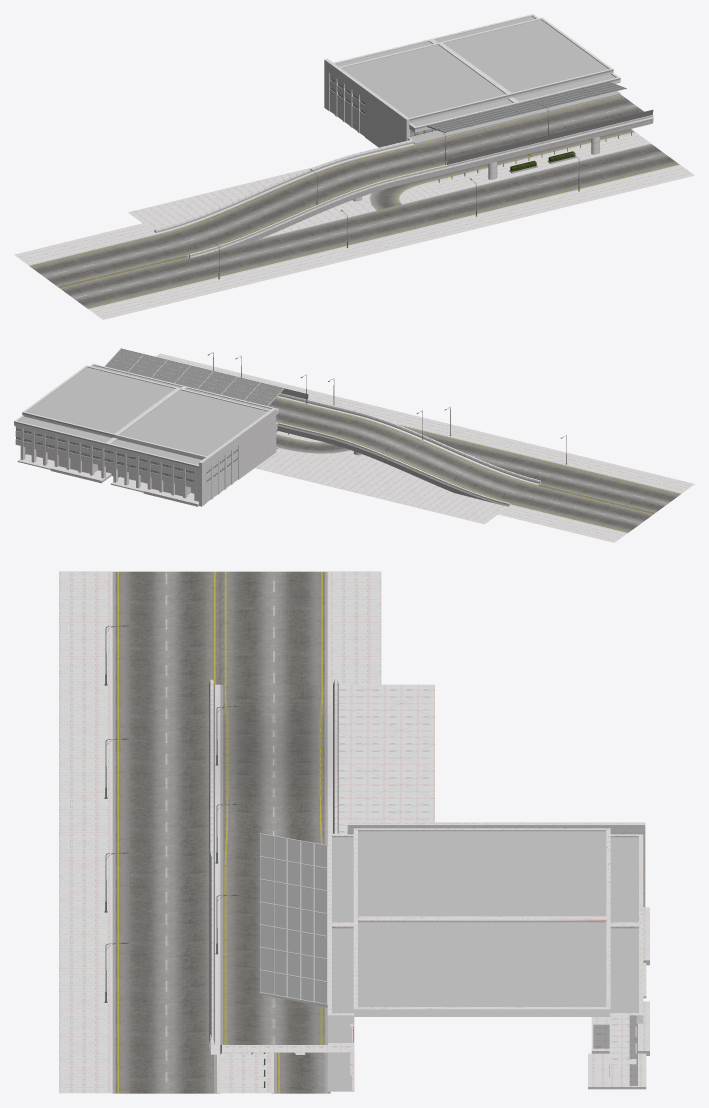
The model's file is terminal_01_a_close.FBX.
The picture shows the model from 3 angles, top to bottom: view 1: azimuth 30°, elevation 25°; view 2: azimuth 150°, elevation 25°; view 3: azimuth 270°, elevation 25°; orthographic projection. The views are drawn at different scales.
Parts seen in each view (by area): view 1: terminal_01_bc, misc_b, misc_a; view 2: terminal_01_bc, misc_b; view 3: terminal_01_bc, misc_b, misc_a.
Part boxes in pixels (<box>): terminal_01_bc: <box>14,14,694,319</box>; misc_b: <box>427,81,626,132</box>; misc_a: <box>212,104,631,279</box>; terminal_01_bc: <box>14,353,694,542</box>; misc_b: <box>105,348,284,406</box>; terminal_01_bc: <box>59,571,649,1093</box>; misc_b: <box>259,833,327,1007</box>; misc_a: <box>104,624,265,1087</box>.
Bounding box in the file's own units: 460 × 48.83 × 220.
